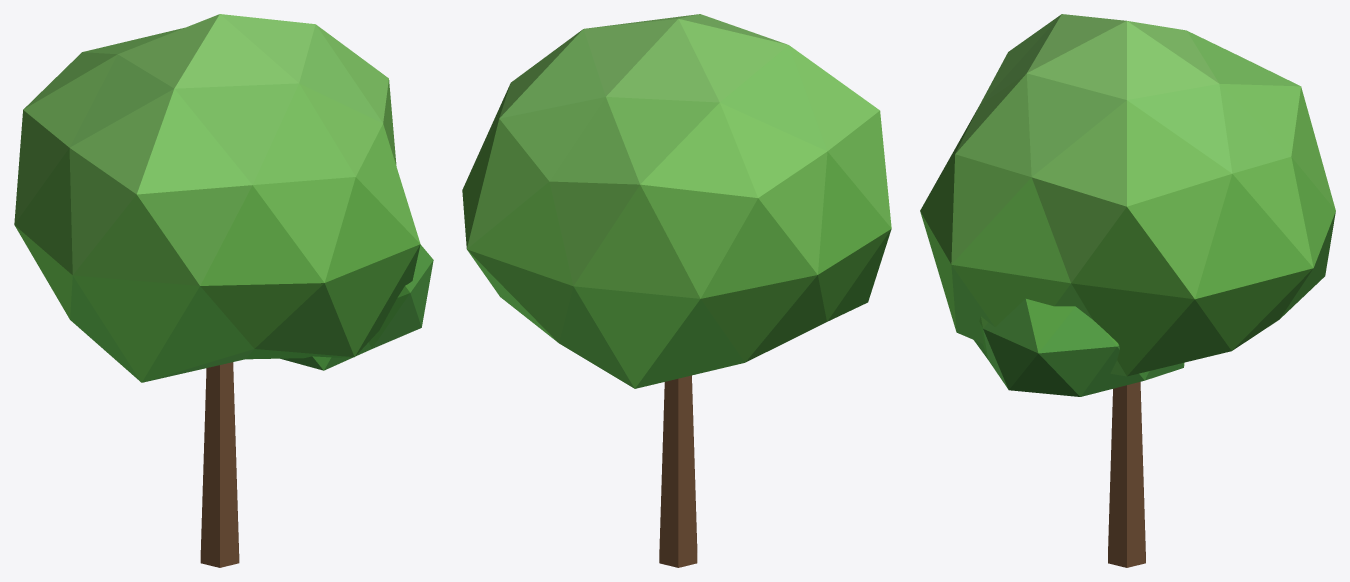
Rendered from tree-a.glb.
The picture shows the model from 3 angles, left to right: view 1: azimuth 30°, elevation 25°; view 2: azimuth 150°, elevation 25°; view 3: azimuth 270°, elevation 25°; orthographic projection.
Parts seen in each view (by area): view 1: tree-a; view 2: tree-a; view 3: tree-a.
Boxes of the visible parts, x1,y1,x2,y2 form: tree-a: (14, 14, 433, 567); tree-a: (462, 14, 891, 567); tree-a: (920, 14, 1335, 567).
Bounding box in the file's own units: 4.93 × 7.04 × 4.93.
Materials: 1 (1 with a texture image).
